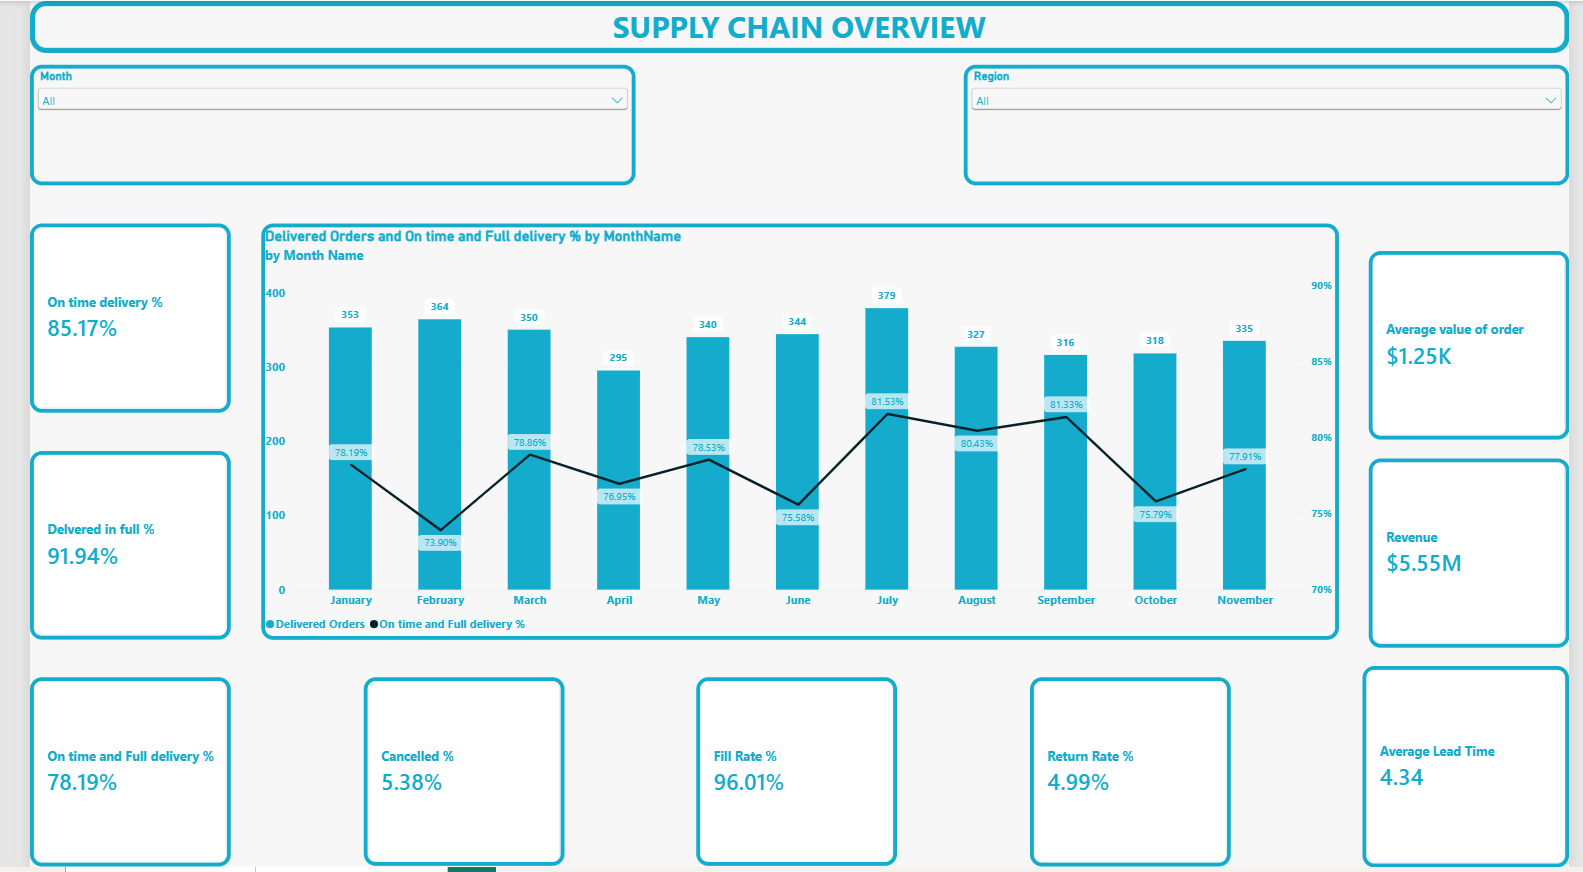

Layout of this report page (visuals, bound fields, positions):
{"tool":"powerbi","page":{"name":"Workforce Overview","canvas":[1920,1080],"ordinal":0},"visuals":[{"type":"cardVisual","fields":{"Data":["Orders.On time delivery %"]},"box":[0,277,250,235.9],"z":0},{"type":"cardVisual","fields":{"Data":["Orders.Deilvered in full %"]},"box":[0,561,250,235],"z":1000},{"type":"cardVisual","fields":{"Data":["Orders.On time and Full delivery %"]},"box":[0,844,250,235.9],"z":2000},{"type":"cardVisual","fields":{"Data":["Orders.Fill Rate %"]},"box":[831.2,844,250,235],"z":3000},{"type":"cardVisual","fields":{"Data":["Orders.Return Rate %"]},"box":[1246.9,844,250,235.9],"z":4000},{"type":"cardVisual","fields":{"Data":["Orders.Cancelled %"]},"box":[415.6,844,250,235],"z":5000},{"type":"cardVisual","fields":{"Data":["Orders.Avergae Lead Time"]},"box":[1662.5,828.9,257.5,251],"z":6000},{"type":"cardVisual","fields":{"Data":["Orders.Revenue"]},"box":[1669,569.9,250,235.9],"z":7000},{"type":"cardVisual","fields":{"Data":["Orders.Average value of order"]},"box":[1669,311.7,250,235],"z":8000},{"type":"lineStackedColumnComboChart","fields":{"Category":["Date.MonthName"],"Y":["Orders.Delivered Orders"],"Y2":["Orders.On time and Full delivery %"]},"box":[287.8,277,1343.9,519.4],"z":9000},{"type":"textbox","box":[0,0,1920,64.7],"z":10000},{"type":"slicer","fields":{"Values":["Date.MonthName"]},"box":[0,80.1,755.1,150],"z":11000},{"type":"slicer","fields":{"Values":["Orders.Region"]},"box":[1164.3,80.1,755,150],"z":12000}]}

Visuals, with their boxes in screenshot pixels (x1, y1, x2, y2), scaled from the page's 1920x1080 canvas onto the 1583x872 screenshot:
cardVisual - Orders.On time delivery %: bbox(0, 224, 206, 414)
cardVisual - Orders.Deilvered in full %: bbox(0, 453, 206, 643)
cardVisual - Orders.On time and Full delivery %: bbox(0, 681, 206, 871)
cardVisual - Orders.Fill Rate %: bbox(685, 681, 891, 871)
cardVisual - Orders.Return Rate %: bbox(1028, 681, 1234, 871)
cardVisual - Orders.Cancelled %: bbox(343, 681, 549, 871)
cardVisual - Orders.Avergae Lead Time: bbox(1371, 669, 1582, 871)
cardVisual - Orders.Revenue: bbox(1376, 460, 1582, 651)
cardVisual - Orders.Average value of order: bbox(1376, 252, 1582, 441)
lineStackedColumnComboChart - Date.MonthName x Orders.Delivered Orders: bbox(237, 224, 1345, 643)
textbox: bbox(0, 0, 1582, 52)
slicer - Date.MonthName: bbox(0, 65, 623, 186)
slicer - Orders.Region: bbox(960, 65, 1582, 186)
